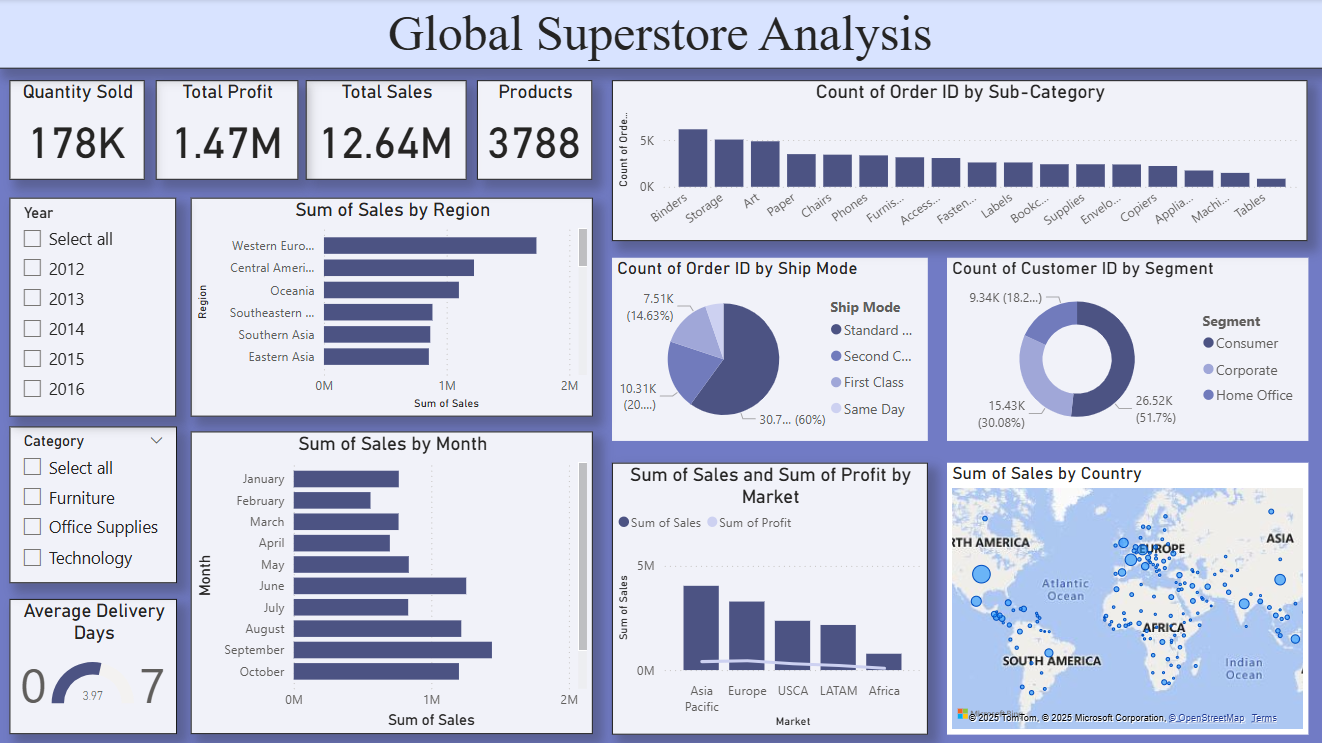

The page's visual inventory and layout, read from the dashboard file:
{"tool":"powerbi","page":{"name":"Page 1","canvas":[1280,720],"ordinal":0},"visuals":[{"type":"map","fields":{"Category":["Orders.Country"],"Size":["Sum(Orders.Sales)"]},"box":[916.6,447.3,348.5,262.1],"z":0},{"type":"card","title":"Total Sales","fields":{"Values":["Sum(Orders.Sales)"]},"box":[297.8,78.2,155.1,96.1],"z":1000},{"type":"card","title":"Total Profit","fields":{"Values":["Sum(Orders.Profit)"]},"box":[153.7,78.2,137.2,96.1],"z":2000},{"type":"card","title":"Quantity Sold","fields":{"Values":["Sum(Orders.Quantity)"]},"box":[12.3,78.2,130.4,96.1],"z":3000},{"type":"pieChart","fields":{"Category":["Orders.Ship Mode"],"Y":["CountNonNull(Orders.Order ID)"]},"box":[594.2,249.7,304.6,177],"z":4000},{"type":"clusteredBarChart","fields":{"Category":["Orders.Region"],"Y":["Sum(Orders.Sales)"]},"box":[186.6,192.1,388.3,211.3],"z":5000},{"type":"donutChart","fields":{"Category":["Orders.Segment"],"Y":["CountNonNull(Orders.Customer ID)"]},"box":[916.6,249.7,348.5,177],"z":6000},{"type":"lineStackedColumnComboChart","fields":{"Category":["Orders.Market"],"Y":["Sum(Orders.Sales)"],"Y2":["Sum(Orders.Profit)"]},"box":[594.2,447.3,304.6,262.1],"z":7000},{"type":"textbox","box":[0,0,1280.3,67.2],"z":8000},{"type":"gauge","title":"Average Delivery Days","fields":{"MinValue":["Min(Orders.Delivery Day)"],"MaxValue":["Max(Orders.Delivery Day)"],"Y":["Avg(Orders.Delivery Day)"]},"box":[12.3,579.1,161.9,130.4],"z":9000},{"type":"card","title":"Products","fields":{"Values":["Count(Orders.Product ID)"]},"box":[463.8,78.2,111.1,96.1],"z":10000},{"type":"columnChart","fields":{"Category":["Orders.Sub-Category"],"Y":["CountNonNull(Orders.Order ID)"]},"box":[594.2,78.2,671,155.1],"z":11000},{"type":"slicer","fields":{"Values":["Orders.Category"]},"box":[12.3,413,161.9,150.9],"z":12000},{"type":"clusteredBarChart","fields":{"Category":["Orders.Ship Date.Variation.Date Hierarchy.Month"],"Y":["Sum(Orders.Sales)"]},"box":[186.6,417.2,388.3,292.3],"z":13000},{"type":"slicer","fields":{"Values":["Orders.Ship Date.Variation.Date Hierarchy.Year"]},"box":[12.3,192.1,160.5,211.3],"z":14000}]}

Visuals, with their boxes in screenshot pixels (x1, y1, x2, y2), scaled from the page's 1280x720 canvas onto the 1322x743 screenshot:
map - Orders.Country x Sum(Orders.Sales): <region>947, 462, 1307, 732</region>
"Total Sales" card: <region>308, 81, 468, 180</region>
"Total Profit" card: <region>159, 81, 300, 180</region>
"Quantity Sold" card: <region>13, 81, 147, 180</region>
pieChart - Orders.Ship Mode x CountNonNull(Orders.Order ID): <region>614, 258, 928, 440</region>
clusteredBarChart - Orders.Region x Sum(Orders.Sales): <region>193, 198, 594, 416</region>
donutChart - Orders.Segment x CountNonNull(Orders.Customer ID): <region>947, 258, 1307, 440</region>
lineStackedColumnComboChart - Orders.Market x Sum(Orders.Sales): <region>614, 462, 928, 732</region>
textbox: <region>0, 0, 1321, 69</region>
"Average Delivery Days" gauge: <region>13, 598, 180, 732</region>
"Products" card: <region>479, 81, 594, 180</region>
columnChart - Orders.Sub-Category x CountNonNull(Orders.Order ID): <region>614, 81, 1307, 241</region>
slicer - Orders.Category: <region>13, 426, 180, 582</region>
clusteredBarChart - Orders.Ship Date.Variation.Date Hierarchy.Month x Sum(Orders.Sales): <region>193, 431, 594, 732</region>
slicer - Orders.Ship Date.Variation.Date Hierarchy.Year: <region>13, 198, 178, 416</region>
